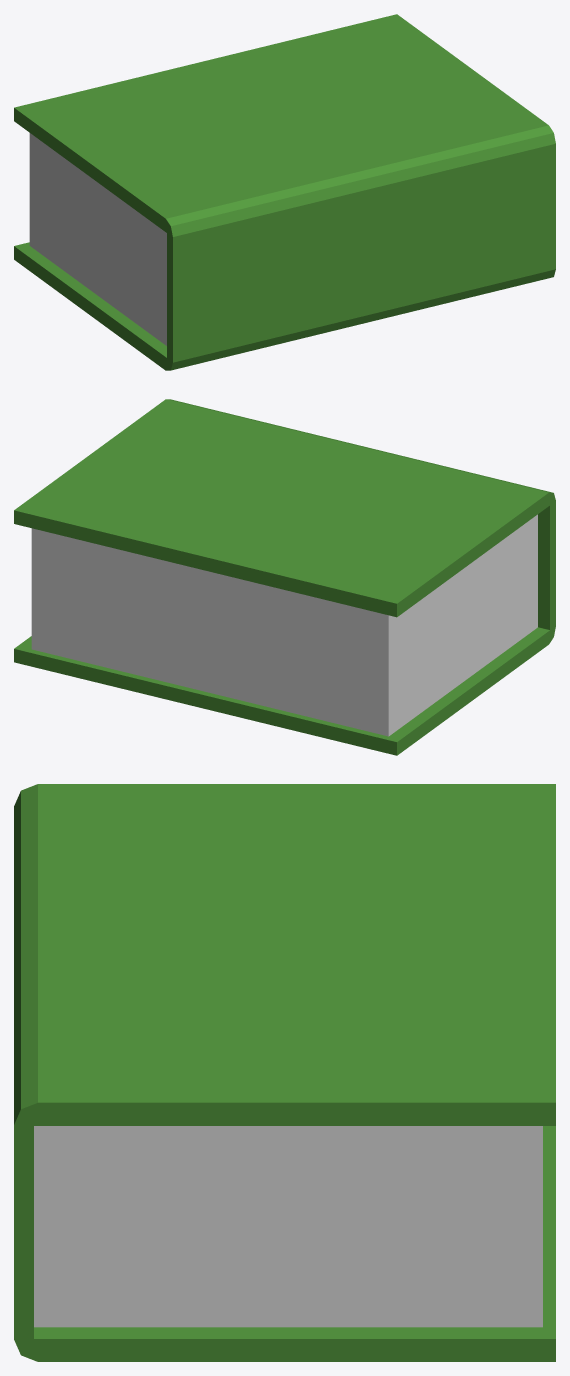
The model's file is Book.fbx.
The picture shows the model from 3 angles, top to bottom: view 1: azimuth 30°, elevation 25°; view 2: azimuth 150°, elevation 25°; view 3: azimuth 270°, elevation 25°; orthographic projection. The views are drawn at different scales.
Parts seen in each view (by area): view 1: livre_2.002; view 2: livre_2.002; view 3: livre_2.002.
Boxes of the visible parts, <box> form: livre_2.002: <box>14,14,555,370</box>; livre_2.002: <box>14,399,555,755</box>; livre_2.002: <box>14,784,555,1361</box>.
Bounding box in the file's own units: 35.4 × 13.42 × 25.44.
